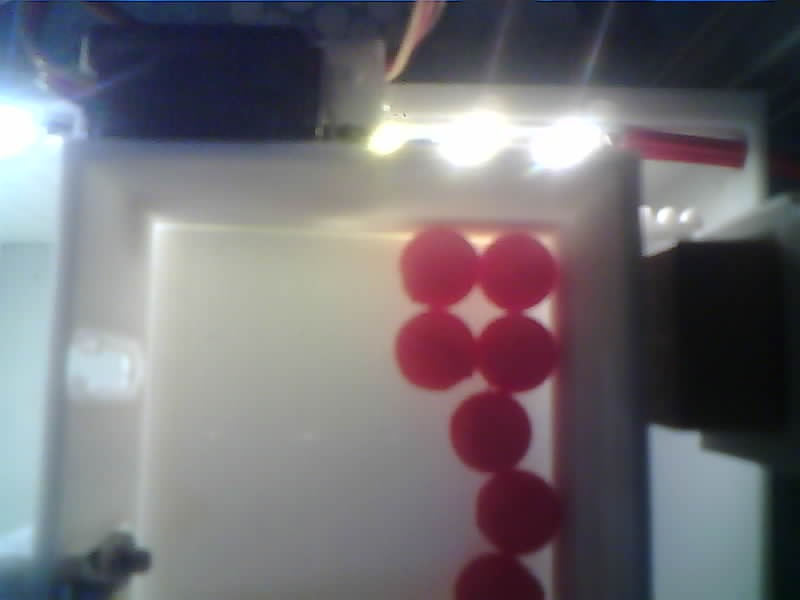Plastic: (471, 472, 562, 552), (444, 396, 534, 474), (475, 314, 558, 393), (400, 228, 478, 309), (392, 313, 476, 387), (477, 231, 550, 311), (446, 557, 544, 600)
